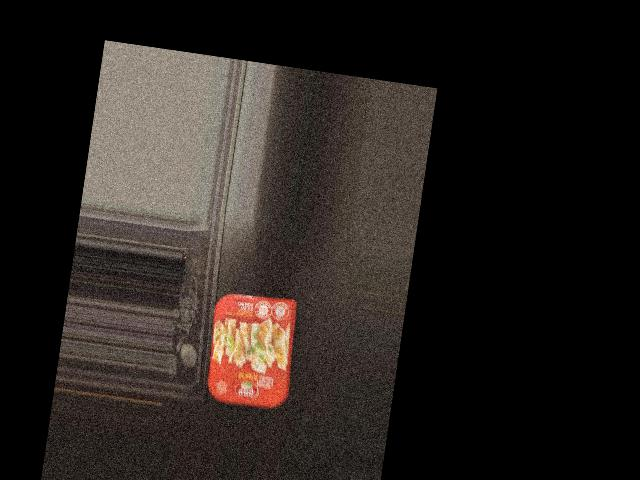cheese: (201, 291, 303, 413)
